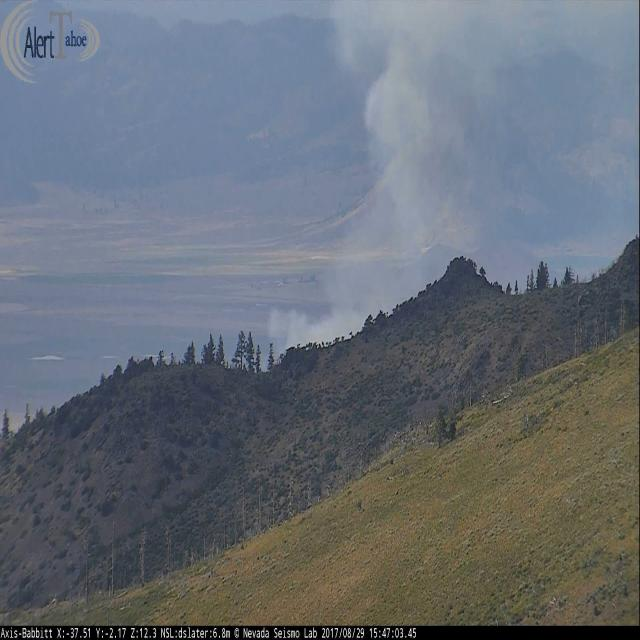smoke: (268, 0, 533, 370)
